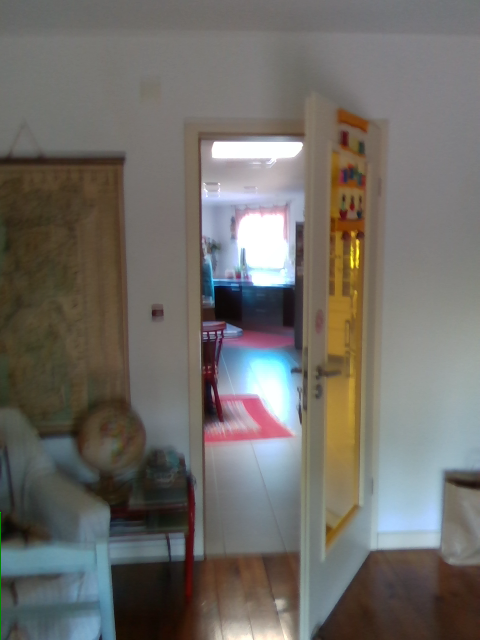semi: (189, 99, 386, 638)
